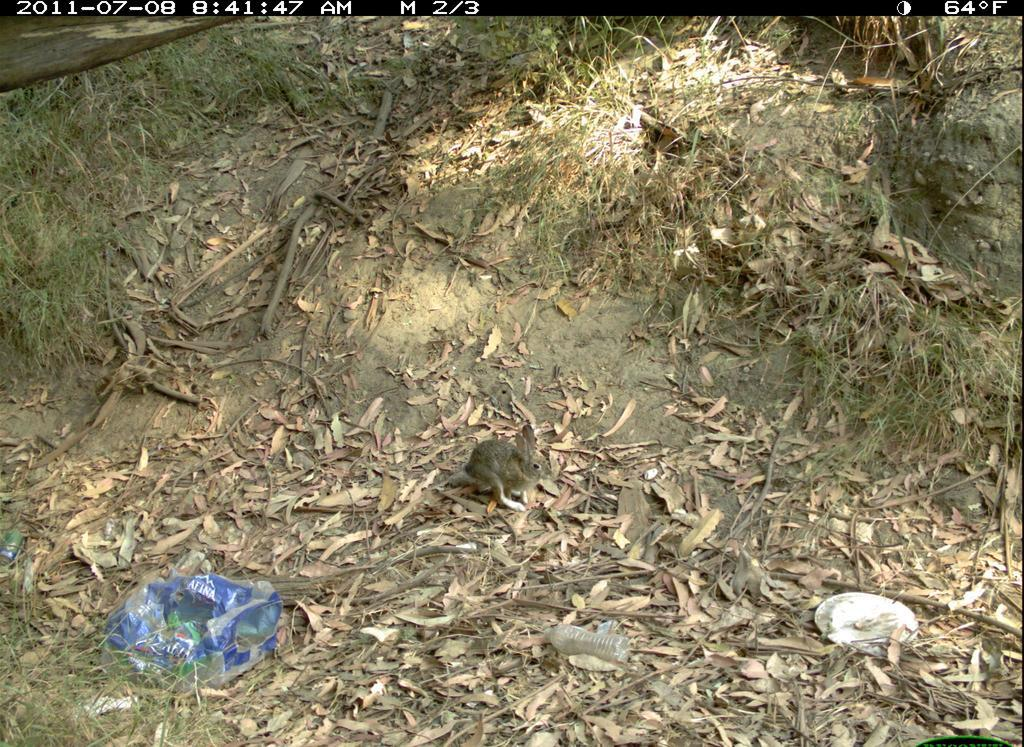rabbit: (449, 404, 559, 541)
